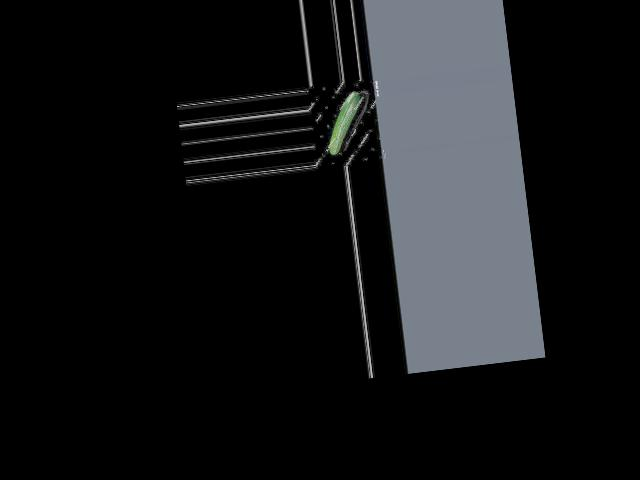cucumber: (322, 91, 367, 156)
